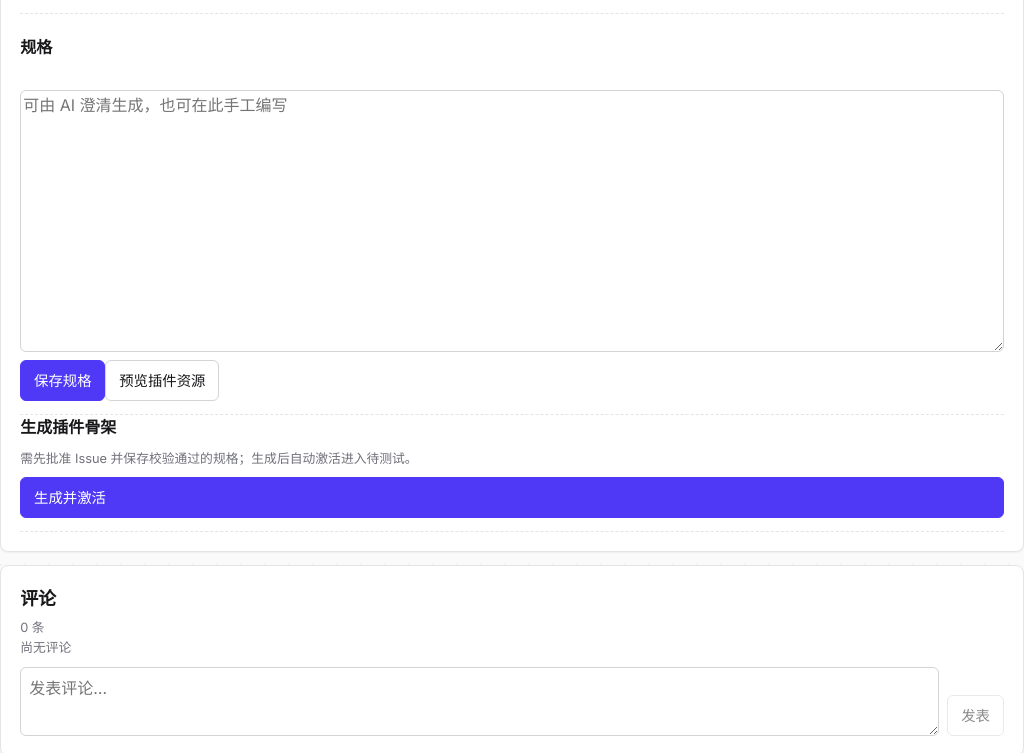
it: IssueDetail 规格与生成（FR-ISSUE-04/05/06） › 预览：合法规格展示资源清单
(page scrolled)
Click the button "预览插件资源" at x=162, y=381, box [105,360,219,401]
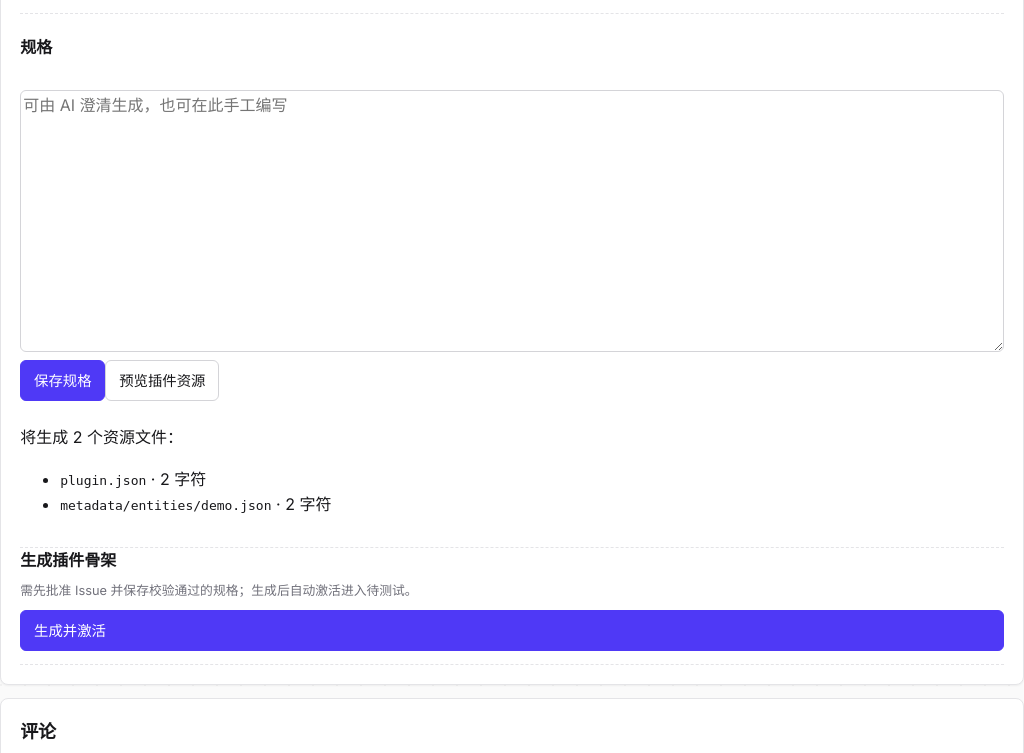
Result: the element with test id "spec-preview" shows "2 个资源文件" at [20,427,183,447]
Result: the element with test id "spec-preview" shows "plugin.json" at [60,473,146,488]
